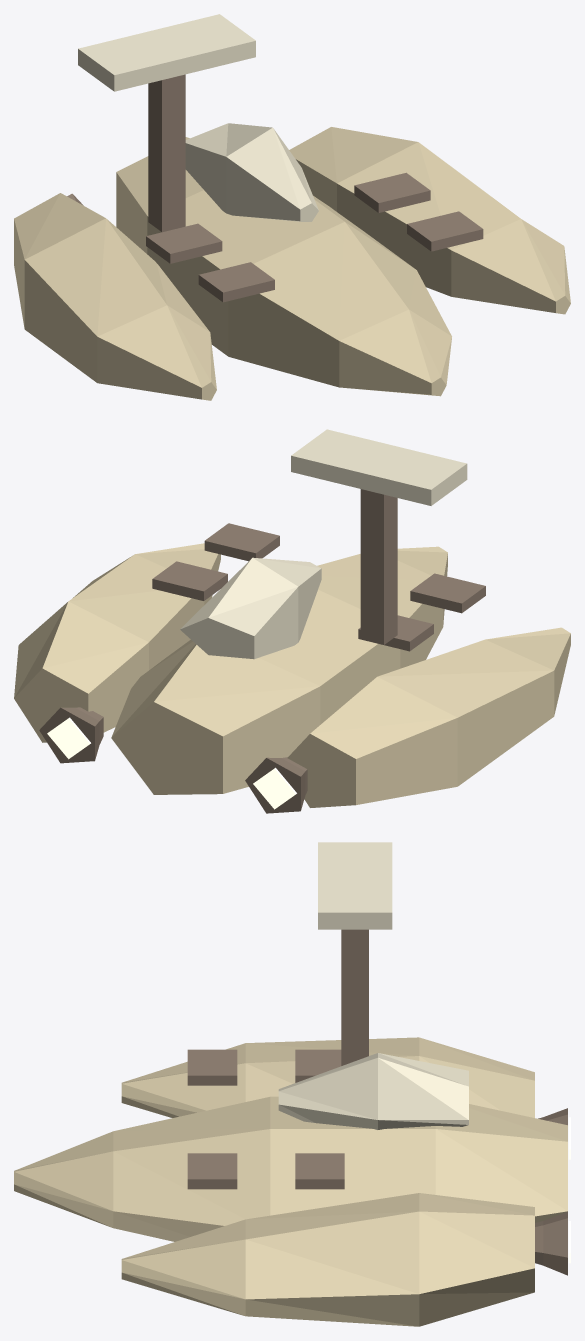
3 renders of one model, top to bottom at view 1: azimuth 30°, elevation 25°; view 2: azimuth 150°, elevation 25°; view 3: azimuth 270°, elevation 25°, orthographic. The views are drawn at different scales.
Size of the model in its own units: 11.86 by 7.56 by 12.
